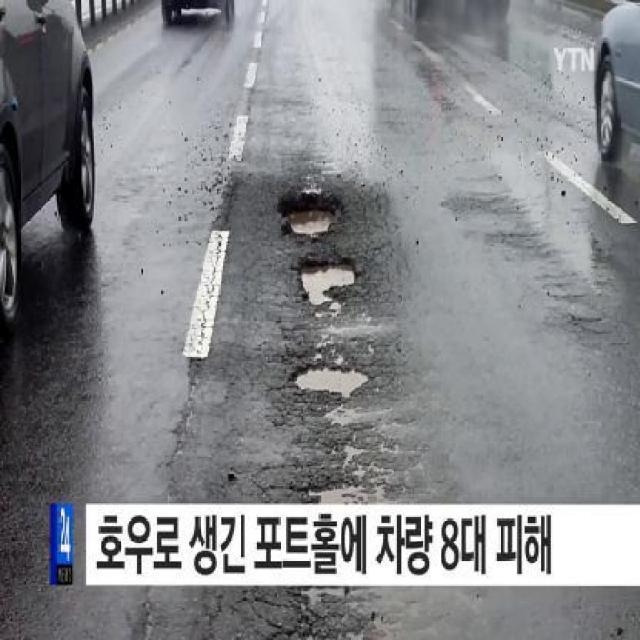pothole: (296, 252, 362, 318), (275, 190, 351, 244), (289, 360, 380, 400)
